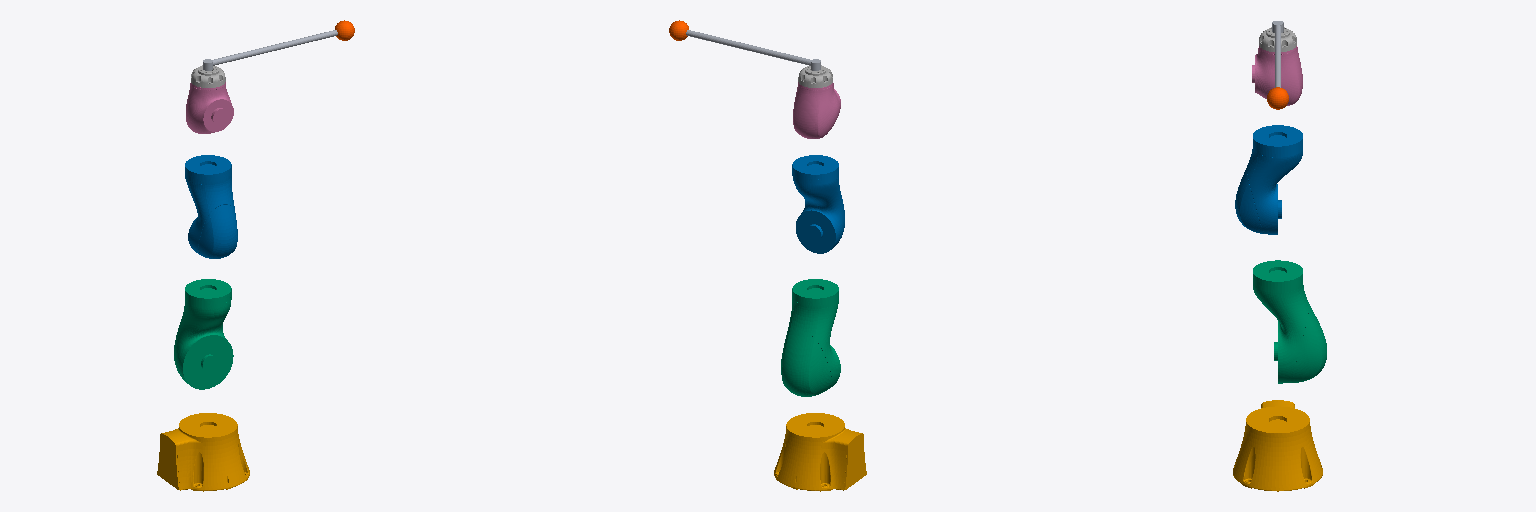
URDF robot description (kuka_lbr_iiwa14_r820):
<?xml version="1.0" ?>
<!-- =================================================================================== -->
<!-- |    This document was autogenerated by xacro from /home/scinolimits/robotics/robot_modeling_and_simulation/pb_ws/src/kuka-pendulum-balancer/lbr_iiwa14_r820_description/urdf/lbr_iiwa14_r820.urdf.xacro | -->
<!-- |    EDITING THIS FILE BY HAND IS NOT RECOMMENDED                                 | -->
<!-- =================================================================================== -->
<!-- top level -->
<robot name="kuka_lbr_iiwa14_r820">
	<!-- ================================= -->
	<!-- XACRO PROPERTIES (CONSTANTS)      -->
	<!-- ================================= -->
	<!-- links and joints -->
	<link name="lbr_link_0">
		<inertial>
			<origin rpy="0 0 0" xyz="-0.012822 0.0 0.071507"/>
			<mass value="7.050378"/>
			<inertia ixx="0.031226" ixy="0.0" ixz="0.000871" iyy="0.039697" iyz="0.0" izz="0.043102"/>
		</inertial>
		<visual>
			<origin rpy="0 0 0" xyz="0 0 0"/>
			<geometry>
				<mesh filename="full/link_0.obj"/>
			</geometry>
		</visual>
		<collision>
			<origin rpy="0 0 0" xyz="0 0 0"/>
			<geometry>
				<mesh filename="full/link_0.obj"/>
			</geometry>
		</collision>
	</link>
	<joint name="lbr_A1" type="revolute">
		<origin rpy="0 0 0" xyz="0.0 0.0 0.1475"/>
		<parent link="lbr_link_0"/>
		<child link="lbr_link_1"/>
		<axis xyz="0.0 0.0 1.0"/>
		<limit effort="200" lower="-2.9670597283903604" upper="2.9670597283903604" velocity="1.4835298641951802"/>
		<safety_controller k_position="17.0" k_velocity="10" soft_lower_limit="-2.9670597283903604" soft_upper_limit="2.9670597283903604"/>
		<dynamics damping="10.0" friction="0.1"/>
	</joint>
	<link name="lbr_link_1">
		<inertial>
			<origin rpy="0 0 0" xyz="0.0 -0.033795 0.132404"/>
			<mass value="5.289529"/>
			<inertia ixx="0.042462" ixy="0.0" ixz="0.0" iyy="0.042838" iyz="0.006341" izz="0.01587"/>
		</inertial>
		<visual>
			<origin rpy="0 0 0" xyz="0.0 0.0 -0.1475"/>
			<geometry>
				<mesh filename="full/link_1.obj"/>
			</geometry>
		</visual>
		<collision>
			<origin rpy="0 0 0" xyz="0.0 0.0 -0.1475"/>
			<geometry>
				<mesh filename="full/link_1.obj"/>
			</geometry>
		</collision>
	</link>
	<joint name="lbr_A2" type="revolute">
		<origin rpy="0 0 0" xyz="0.0 -0.01 0.2125"/>
		<parent link="lbr_link_1"/>
		<child link="lbr_link_2"/>
		<axis xyz="0.0 1.0 0.0"/>
		<limit effort="200" lower="-2.0943951023931953" upper="2.0943951023931953" velocity="1.4835298641951802"/>
		<safety_controller k_position="17.0" k_velocity="10" soft_lower_limit="-2.0943951023931953" soft_upper_limit="2.0943951023931953"/>
		<dynamics damping="10.0" friction="0.1"/>
	</joint>
	<link name="lbr_link_2">
		<inertial>
			<origin rpy="0 0 0" xyz="0.000136 0.047548 0.076322"/>
			<mass value="5.688888"/>
			<inertia ixx="0.055182" ixy="-3.3e-05" ixz="5.6e-05" iyy="0.053983" iyz="0.010034" izz="0.016523"/>
		</inertial>
		<visual>
			<origin rpy="0 0 0" xyz="0.0 0.01 -0.36"/>
			<geometry>
				<mesh filename="full/link_2.obj"/>
			</geometry>
		</visual>
		<collision>
			<origin rpy="0 0 0" xyz="0.0 0.01 -0.36"/>
			<geometry>
				<mesh filename="full/link_2.obj"/>
			</geometry>
		</collision>
	</link>
	<joint name="lbr_A3" type="revolute">
		<origin rpy="0 0 0" xyz="0.0 0.01 0.228"/>
		<parent link="lbr_link_2"/>
		<child link="lbr_link_3"/>
		<axis xyz="0.0 0.0 1.0"/>
		<limit effort="200" lower="-2.9670597283903604" upper="2.9670597283903604" velocity="1.7453292519943295"/>
		<safety_controller k_position="20.0" k_velocity="10" soft_lower_limit="-2.9670597283903604" soft_upper_limit="2.9670597283903604"/>
		<dynamics damping="10.0" friction="0.1"/>
	</joint>
	<link name="lbr_link_3">
		<inertial>
			<origin rpy="0 0 0" xyz="0.0 0.034913 0.123108"/>
			<mass value="3.461245"/>
			<inertia ixx="0.02172" ixy="0.0" ixz="0.0" iyy="0.02073" iyz="-0.003845" izz="0.007701"/>
		</inertial>
		<visual>
			<origin rpy="0 0 0" xyz="0.0 0.0 -0.588"/>
			<geometry>
				<mesh filename="full/link_3.obj"/>
			</geometry>
		</visual>
		<collision>
			<origin rpy="0 0 0" xyz="0.0 0.0 -0.588"/>
			<geometry>
				<mesh filename="full/link_3.obj"/>
			</geometry>
		</collision>
	</link>
	<joint name="lbr_A4" type="revolute">
		<origin rpy="0 0 0" xyz="0.0 0.0105 0.192"/>
		<parent link="lbr_link_3"/>
		<child link="lbr_link_4"/>
		<axis xyz="0.0 -1.0 0.0"/>
		<limit effort="200" lower="-2.0943951023931953" upper="2.0943951023931953" velocity="1.3089969389957472"/>
		<safety_controller k_position="15.0" k_velocity="10" soft_lower_limit="-2.0943951023931953" soft_upper_limit="2.0943951023931953"/>
		<dynamics damping="10.0" friction="0.1"/>
	</joint>
	<link name="lbr_link_4">
		<inertial>
			<origin rpy="0 0 0" xyz="0.0 -0.039793 0.086944"/>
			<mass value="4.122995"/>
			<inertia ixx="0.03241" ixy="0.0" ixz="0.0" iyy="0.030758" iyz="-0.006022" izz="0.009883"/>
		</inertial>
		<visual>
			<origin rpy="0 0 0" xyz="0.0 -0.0105 -0.78"/>
			<geometry>
				<mesh filename="full/link_4.obj"/>
			</geometry>
		</visual>
		<collision>
			<origin rpy="0 0 0" xyz="0.0 -0.0105 -0.78"/>
			<geometry>
				<mesh filename="full/link_4.obj"/>
			</geometry>
		</collision>
	</link>
	<joint name="lbr_A5" type="revolute">
		<origin rpy="0 0 0" xyz="0.0 -0.0105 0.2075"/>
		<parent link="lbr_link_4"/>
		<child link="lbr_link_5"/>
		<axis xyz="0.0 0.0 1.0"/>
		<limit effort="200" lower="-2.9670597283903604" upper="2.9670597283903604" velocity="2.2689280275926285"/>
		<safety_controller k_position="26.0" k_velocity="10" soft_lower_limit="-2.9670597283903604" soft_upper_limit="2.9670597283903604"/>
		<dynamics damping="10.0" friction="0.1"/>
	</joint>
	<link name="lbr_link_5">
		<inertial>
			<origin rpy="0 0 0" xyz="0.0 -0.029824 0.076267"/>
			<mass value="1.563756"/>
			<inertia ixx="0.008677" ixy="0.0" ixz="0.0" iyy="0.007297" iyz="0.002869" izz="0.003935"/>
		</inertial>
		<visual>
			<origin rpy="0 0 0" xyz="0.0 0.0 -0.9875"/>
			<geometry>
				<mesh filename="full/link_5.obj"/>
			</geometry>
		</visual>
		<collision>
			<origin rpy="0 0 0" xyz="0.0 0.0 -0.9875"/>
			<geometry>
				<mesh filename="full/link_5.obj"/>
			</geometry>
		</collision>
	</link>
	<joint name="lbr_A6" type="revolute">
		<origin rpy="0 0 0" xyz="0.0 -0.0707 0.1925"/>
		<parent link="lbr_link_5"/>
		<child link="lbr_link_6"/>
		<axis xyz="0.0 1.0 0.0"/>
		<limit effort="200" lower="-2.0943951023931953" upper="2.0943951023931953" velocity="2.356194490192345"/>
		<safety_controller k_position="27.0" k_velocity="10" soft_lower_limit="-2.0943951023931953" soft_upper_limit="2.0943951023931953"/>
		<dynamics damping="10.0" friction="0.1"/>
	</joint>
	<link name="lbr_link_6">
		<inertial>
			<origin rpy="0 0 0" xyz="0.0 0.07102 0.00495"/>
			<mass value="2.457878"/>
			<inertia ixx="0.007227" ixy="0.0" ixz="0.0" iyy="0.006958" iyz="0.000318" izz="0.004734"/>
		</inertial>
		<visual>
			<origin rpy="0 0 0" xyz="0.0 0.0707 -1.18"/>
			<geometry>
				<mesh filename="full/link_6.obj"/>
			</geometry>
		</visual>
		<collision>
			<origin rpy="0 0 0" xyz="0.0 0.0707 -1.18"/>
			<geometry>
				<mesh filename="full/link_6.obj"/>
			</geometry>
		</collision>
	</link>
	<joint name="lbr_A7" type="revolute">
		<origin rpy="0 0 0" xyz="0.0 0.0707 0.091"/>
		<parent link="lbr_link_6"/>
		<child link="lbr_link_7"/>
		<axis xyz="0.0 0.0 1.0"/>
		<limit effort="200" lower="-3.0543261909900763" upper="3.0543261909900763" velocity="2.356194490192345"/>
		<safety_controller k_position="27.0" k_velocity="10" soft_lower_limit="-3.0543261909900763" soft_upper_limit="3.0543261909900763"/>
		<dynamics damping="10.0" friction="0.1"/>
	</joint>
	<link name="lbr_link_7">
		<inertial>
			<origin rpy="0 0 0" xyz="3.0000e-06 -2.0000e-06 1.3782e-02"/>
			<mass value="0.265331"/>
			<inertia ixx="0.000175" ixy="0.0" ixz="0.0" iyy="0.000175" iyz="0.0" izz="0.000306"/>
		</inertial>
		<visual>
			<origin rpy="0 0 0" xyz="0.0 0.0 -1.271"/>
			<geometry>
				<mesh filename="full/link_7.obj"/>
			</geometry>
		</visual>
		<collision>
			<origin rpy="0 0 0" xyz="0.0 0.0 -1.271"/>
			<geometry>
				<mesh filename="full/link_7.obj"/>
			</geometry>
		</collision>
	</link>
	<joint name="lbr_joint_ee" type="fixed">
		<parent link="lbr_link_7"/>
		<child link="lbr_link_ee"/>
		<origin rpy="0 0 0" xyz="0 0 0.035"/>
	</joint>
	<link name="lbr_link_ee">
        </link>
	<!-- ================================= -->
	<!-- PENDULUM: RIGID MOVING LINK       -->
	<!-- ================================= -->
	<link name="pendulum_link">
		<!-- Inertial properties shifted down by rod_radius -->
		<inertial>
			<origin rpy="0 0 0" xyz="0.23 0 0.016"/>
			<mass value="0.22"/>
			<inertia ixx="0.00002" ixy="0" ixz="0" iyy="0.0038" iyz="0" izz="0.0038"/>
		</inertial>
		<!-- Connecting Hub -->
		<visual>
			<origin rpy="0 0 0" xyz="0 0 0.0125"/>
			<geometry>
				<cylinder length="0.025" radius="0.015"/>
			</geometry>
			<material name="pendulum_hub_material">
				<color rgba="0.68 0.70 0.74 1"/>
			</material>
		</visual>
		<!-- Metallic Pendulum Rod (Centerline at hub_length - rod_radius) -->
		<visual>
			<origin rpy="0 1.5707963267948966 0" xyz="0.23 0 0.016"/>
			<geometry>
				<cylinder length="0.46" radius="0.009"/>
			</geometry>
			<material name="pendulum_rod_material">
				<color rgba="0.68 0.70 0.74 1"/>
			</material>
		</visual>
		<!-- Spherical Pendulum Bob (Centerline at hub_length - rod_radius) -->
		<visual>
			<origin rpy="0 0 0" xyz="0.46 0 0.016"/>
			<geometry>
				<sphere radius="0.03"/>
			</geometry>
			<material name="pendulum_bob_material">
				<color rgba="1.00 0.40 0.02 1"/>
			</material>
		</visual>
		<collision>
			<origin rpy="0 0 0" xyz="0 0 0.0125"/>
			<geometry>
				<cylinder length="0.025" radius="0.015"/>
			</geometry>
		</collision>
		<collision>
			<origin rpy="0 1.5707963267948966 0" xyz="0.23 0 0.016"/>
			<geometry>
				<cylinder length="0.46" radius="0.009"/>
			</geometry>
		</collision>
		<collision>
			<origin rpy="0 0 0" xyz="0.46 0 0.016"/>
			<geometry>
				<sphere radius="0.03"/>
			</geometry>
		</collision>
	</link>
	<!-- ================================= -->
	<!-- SINGLE REVOLUTE JOINT             -->
	<!-- ================================= -->
	<joint name="pendulum_joint" type="revolute">
		<parent link="lbr_link_ee"/>
		<child link="pendulum_link"/>
		<!-- Joint frame aligned with parent -->
		<origin rpy="0 0 0" xyz="0 0 0"/>
		<axis xyz="0 0 1"/>
		<limit effort="10" lower="-3.141592653589793" upper="3.141592653589793" velocity="10"/>
		<dynamics damping="0.002" friction="0.0005"/>
	</joint>
	<mujoco>
		<compiler assetdir="assets" balanceinertia="true" discardvisual="false" strippath="false" inertiafromgeom="false"/>
	</mujoco>
</robot>

--- Render facts (derived) ---
Views: 3 orthographic renders of the robot side by side, from view 1: azimuth 30°, elevation 25°; view 2: azimuth 150°, elevation 25°; view 3: azimuth 270°, elevation 25°.
Model kuka_lbr_iiwa14_r820 with 10 links and 9 joints (8 revolute, 1 fixed), rooted at lbr_link_0, posed every joint at zero.
Links seen in each view (by area): view 1: lbr_link_0, lbr_link_2, lbr_link_4, lbr_link_6, pendulum_link, lbr_link_7; view 2: lbr_link_0, lbr_link_2, lbr_link_4, lbr_link_6, pendulum_link, lbr_link_7; view 3: lbr_link_0, lbr_link_2, lbr_link_4, lbr_link_6, pendulum_link, lbr_link_7.
Boxes of the visible links, bbox=[...] form: lbr_link_0: bbox=[157, 413, 249, 491]; lbr_link_2: bbox=[174, 279, 233, 389]; lbr_link_4: bbox=[185, 155, 237, 258]; lbr_link_6: bbox=[186, 82, 233, 133]; pendulum_link: bbox=[203, 20, 354, 70]; lbr_link_7: bbox=[191, 65, 225, 87]; lbr_link_0: bbox=[774, 413, 866, 491]; lbr_link_2: bbox=[781, 279, 840, 396]; lbr_link_4: bbox=[792, 155, 844, 253]; lbr_link_6: bbox=[793, 82, 840, 138]; pendulum_link: bbox=[669, 20, 820, 70]; lbr_link_7: bbox=[798, 65, 832, 87]; lbr_link_0: bbox=[1233, 400, 1322, 491]; lbr_link_2: bbox=[1253, 260, 1326, 383]; lbr_link_4: bbox=[1235, 125, 1302, 234]; lbr_link_6: bbox=[1252, 46, 1302, 105]; pendulum_link: bbox=[1267, 21, 1288, 109]; lbr_link_7: bbox=[1259, 27, 1296, 51].
Bounding box of the posed robot: 0.626 × 0.2536 × 1.35 m (x, y, z).
5 mesh visuals loaded from 8 distinct referenced files (5 OBJ); not drawn: 3 (reference not matched to a file when rendering).
